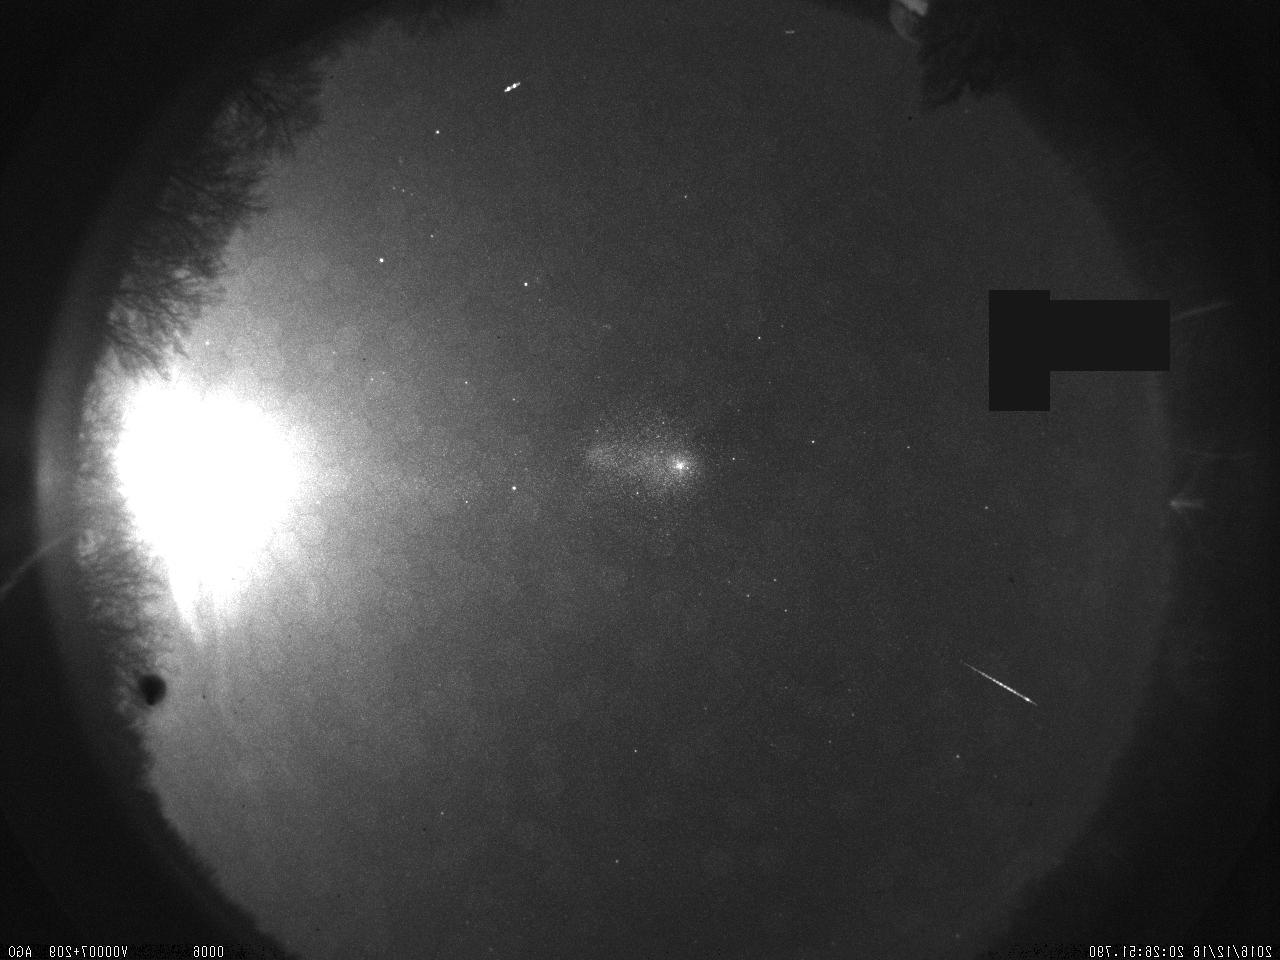meteor: (949, 655, 1047, 713)
